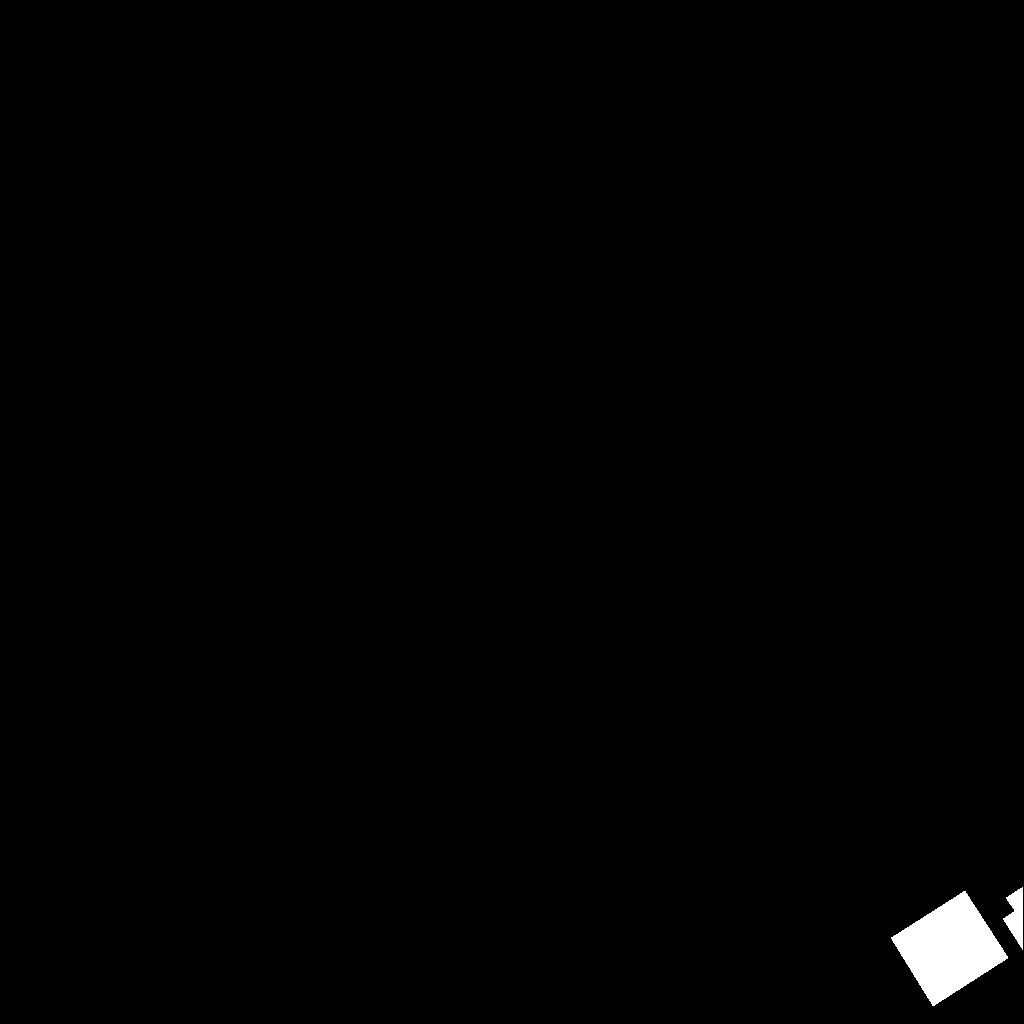building: (891, 891, 1009, 1007), (1003, 887, 1024, 951)
